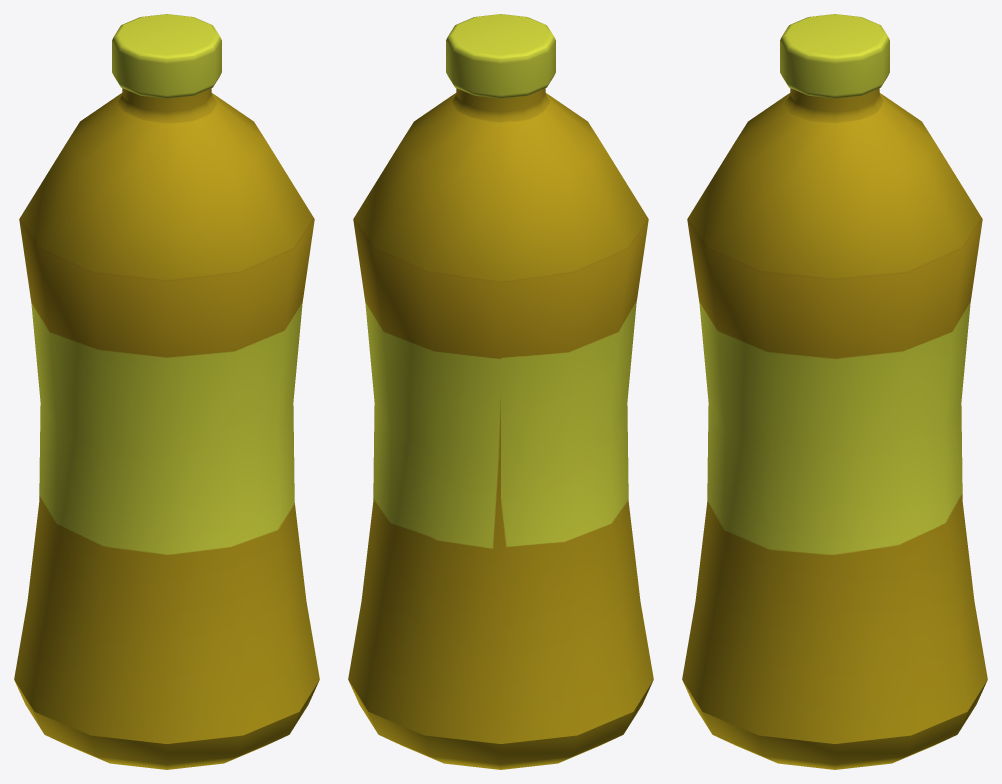
Rendered from Bottle06.fbx.
The picture shows the model from 3 angles, left to right: view 1: azimuth 30°, elevation 25°; view 2: azimuth 150°, elevation 25°; view 3: azimuth 270°, elevation 25°; orthographic projection.
Visible parts, largest first — view 1: Bottle6; view 2: Bottle6; view 3: Bottle6.
Part boxes in pixels (x1=…): Bottle6: x1=14, y1=14, x2=319, y2=769; Bottle6: x1=348, y1=14, x2=653, y2=769; Bottle6: x1=682, y1=14, x2=987, y2=769.
Size of the model in its own units: 40 by 99.18 by 40.
